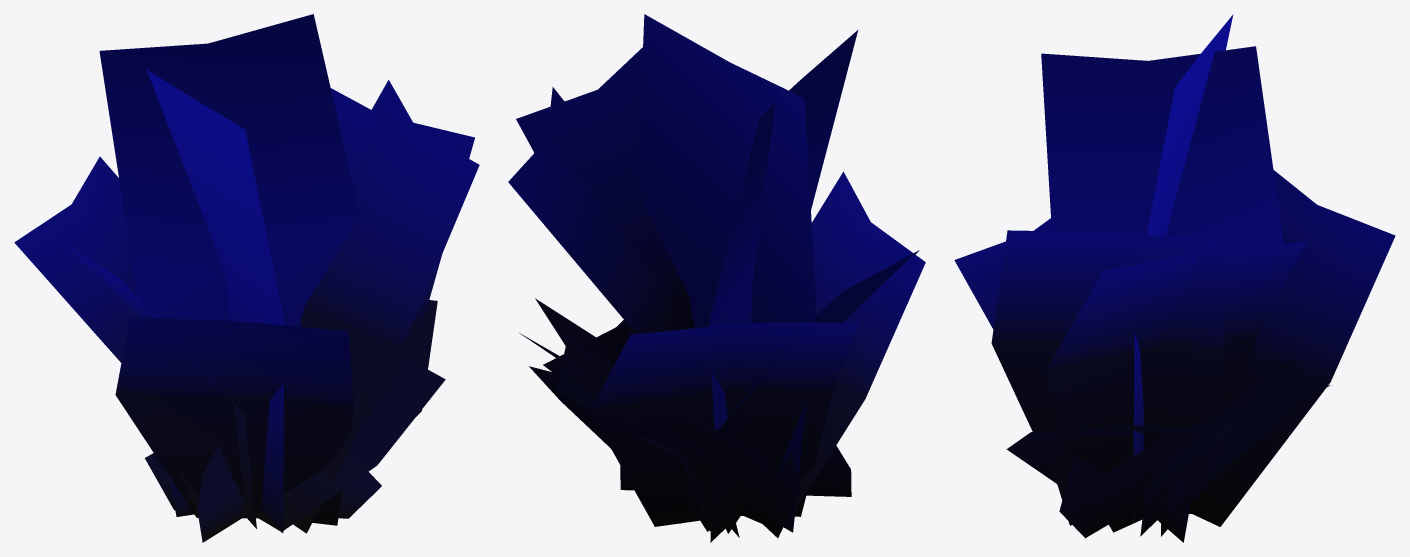
File: SM_Grass_M_S_03.fbx
3 views of the same model, side by side, from view 1: azimuth 30°, elevation 25°; view 2: azimuth 150°, elevation 25°; view 3: azimuth 270°, elevation 25° (orthographic). The views are drawn at different scales.
Visible parts, largest first — view 1: SM_Grass_M_S_03; view 2: SM_Grass_M_S_03; view 3: SM_Grass_M_S_03.
Part boxes in pixels (x1,y1,x2,y2): SM_Grass_M_S_03: [14, 14, 479, 542]; SM_Grass_M_S_03: [508, 14, 925, 542]; SM_Grass_M_S_03: [954, 14, 1395, 542].
Bounding box in the file's own units: 88.76 × 92.28 × 105.
